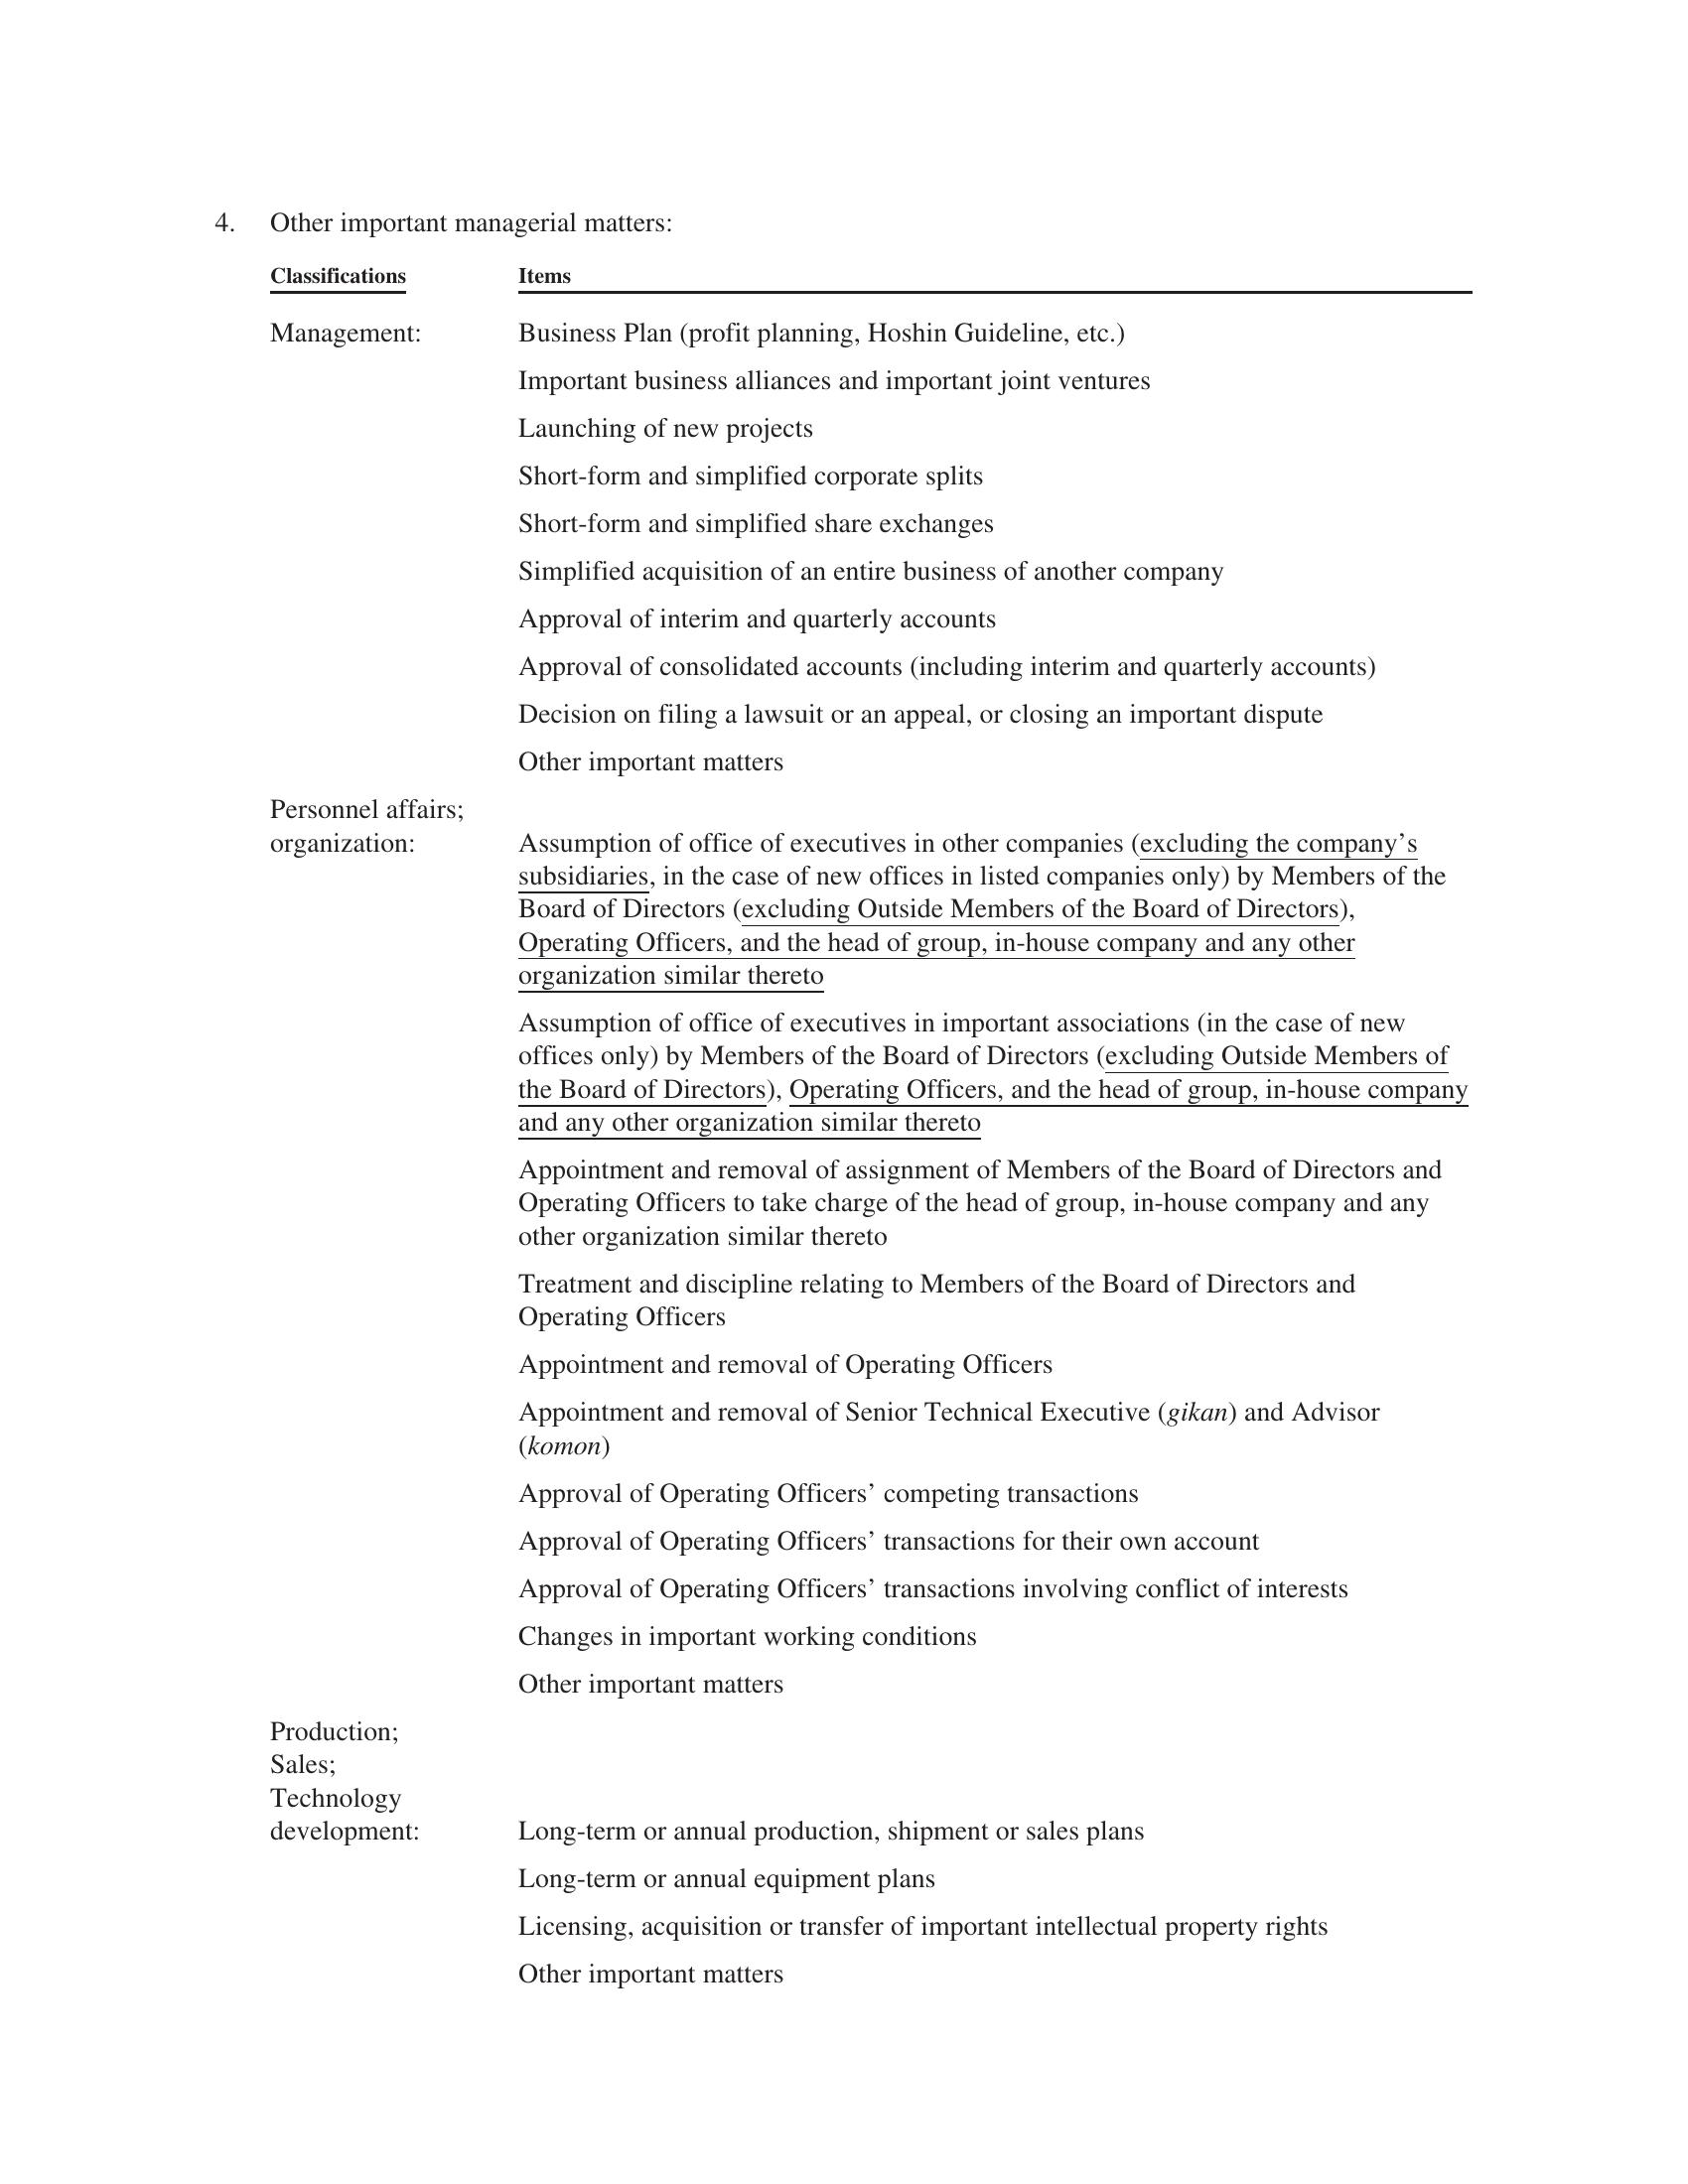Footer: (0, 2042, 1688, 2184)
Header: (0, 0, 1688, 179)
Table: (206, 243, 1567, 2017)
